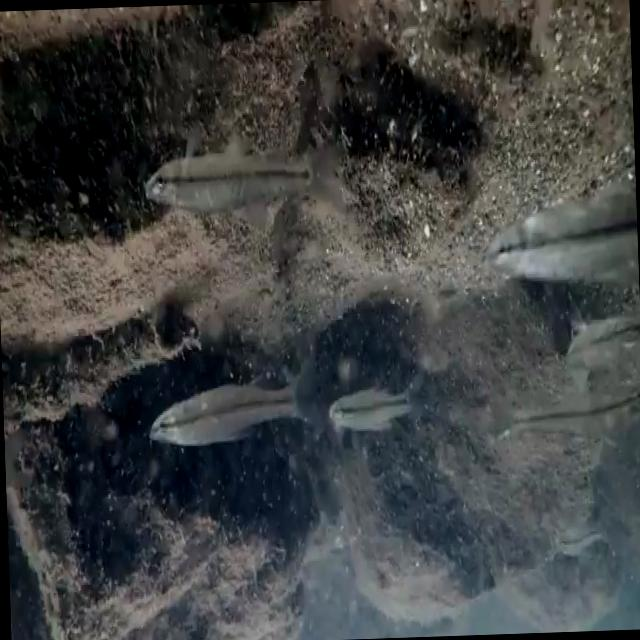Cakil Baligi: (142, 126, 348, 231), (135, 362, 320, 459), (327, 369, 435, 441)
